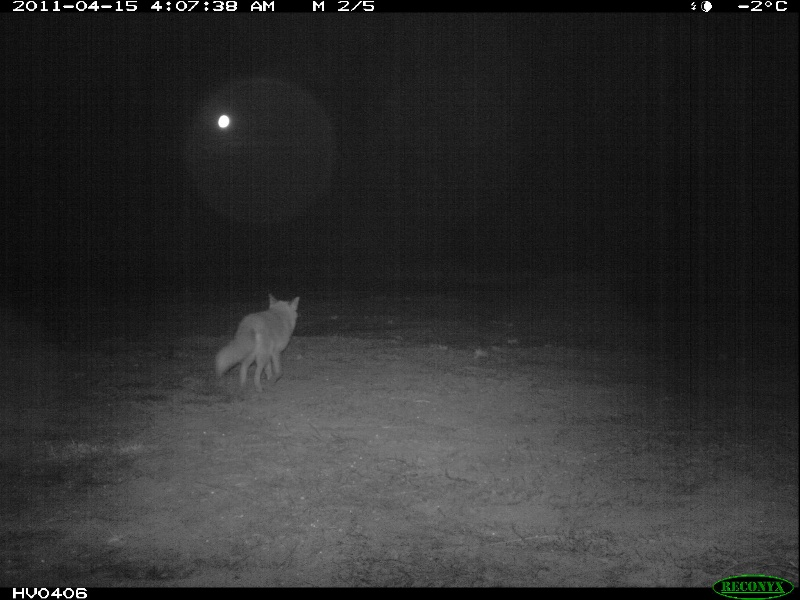fox: (211, 289, 303, 396)
